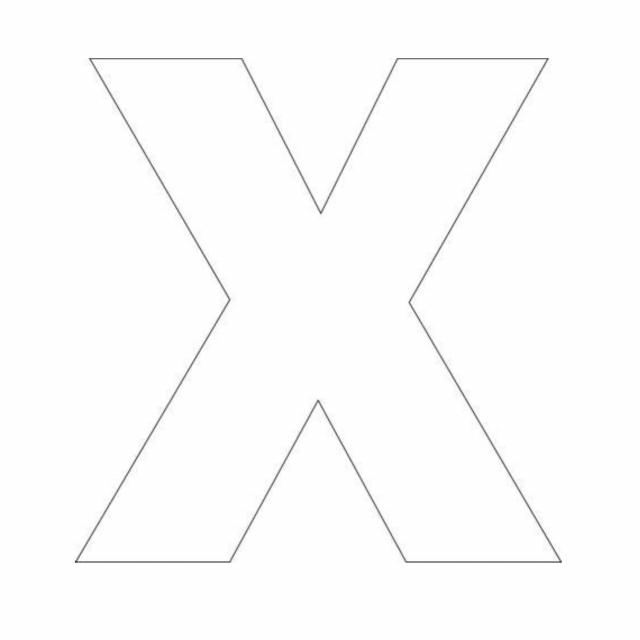X: (29, 12, 605, 611)
